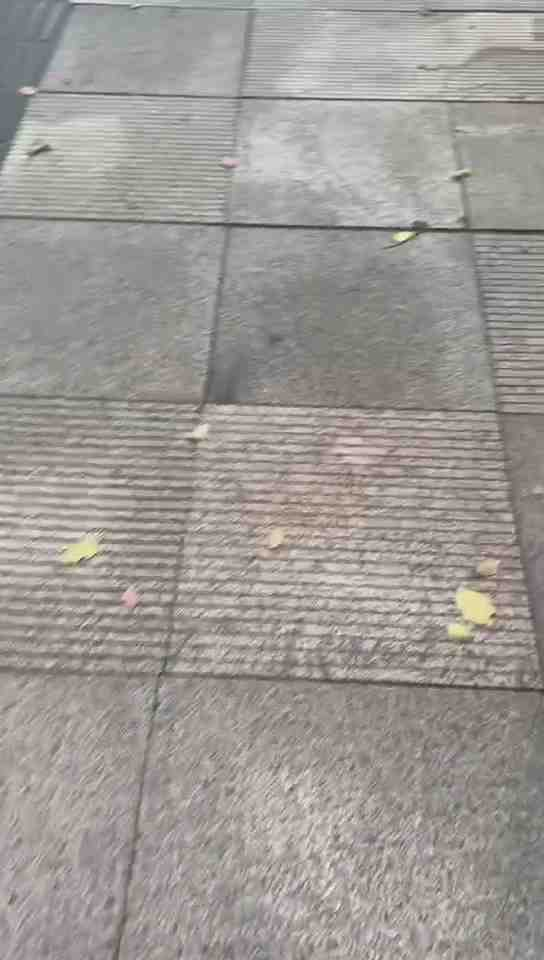leaf: (447, 582, 506, 628), (52, 527, 107, 568), (470, 552, 502, 582), (186, 417, 216, 443), (119, 579, 144, 609)
